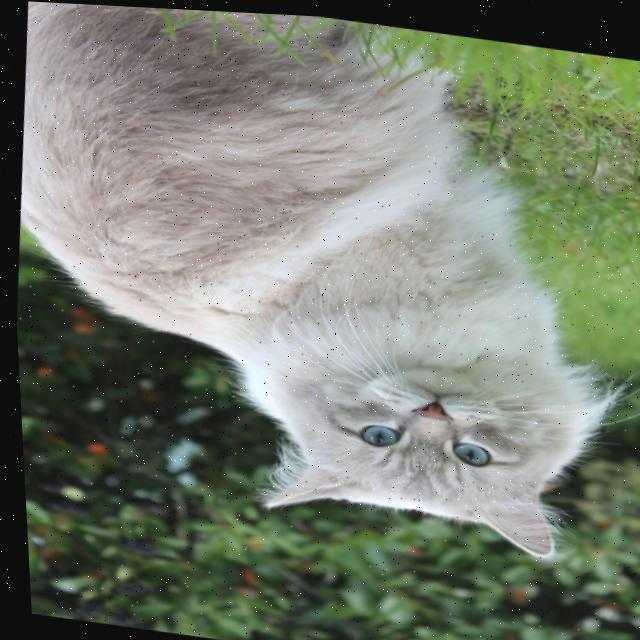Neva Masquerade: (0, 0, 640, 566)
